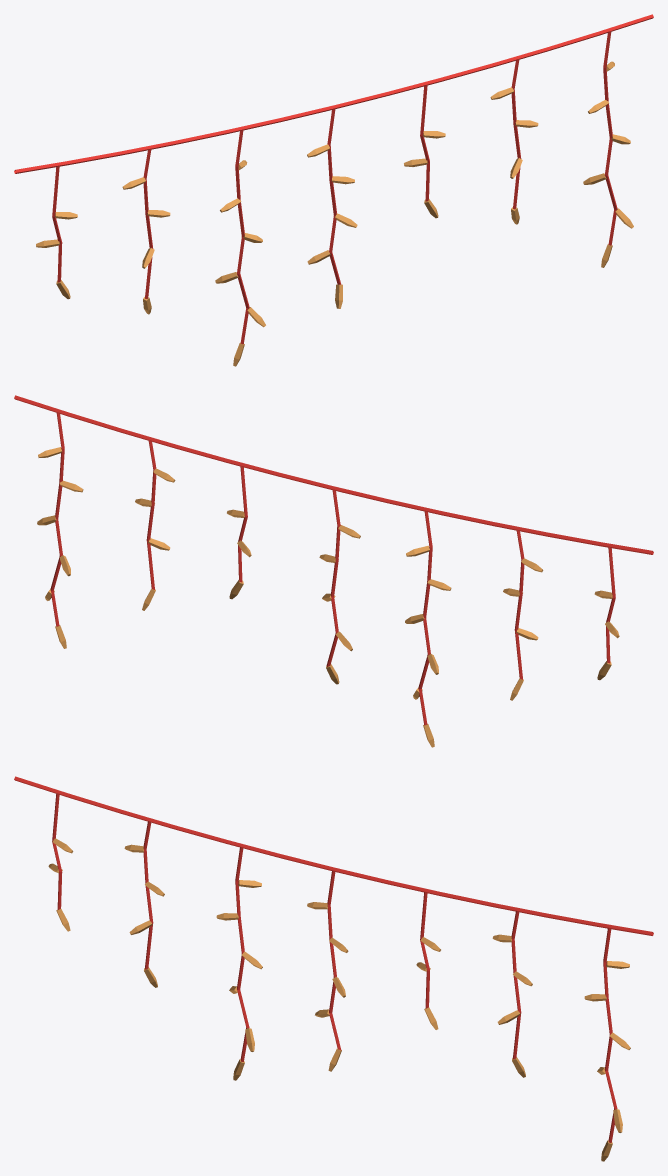
The model's file is SM_Light_String_White_2m_Christmas.fbx.
The picture shows the model from 3 angles, top to bottom: view 1: azimuth 30°, elevation 25°; view 2: azimuth 150°, elevation 25°; view 3: azimuth 330°, elevation 25°; orthographic projection.
Visible parts, largest first — view 1: light-string-white-2m-christmas; view 2: light-string-white-2m-christmas; view 3: light-string-white-2m-christmas.
Boxes of the visible parts, box(x1,y1,x2,y2) form: light-string-white-2m-christmas: box(14, 14, 653, 366); light-string-white-2m-christmas: box(14, 395, 653, 747); light-string-white-2m-christmas: box(14, 776, 653, 1161).
Size of the model in its own units: 2 by 0.7503 by 0.0886.
